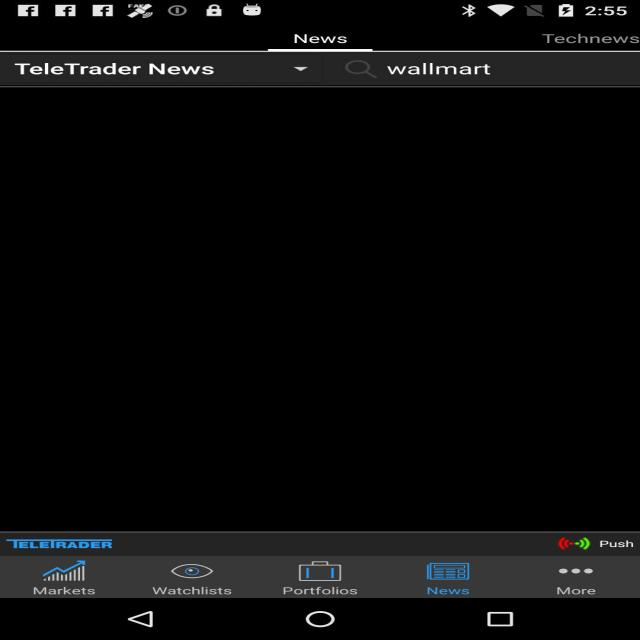obstruction: (285, 236, 535, 454)
